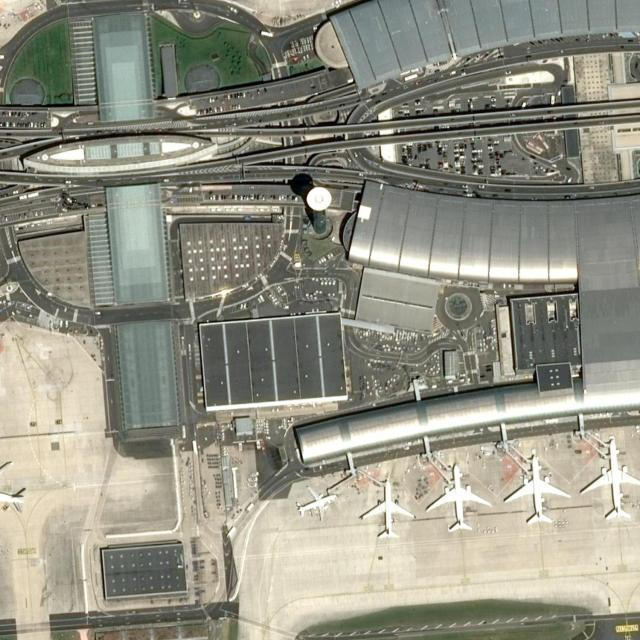Aircraft: (578, 437, 640, 521), (503, 452, 570, 526), (424, 463, 492, 533), (359, 475, 416, 540), (294, 486, 338, 520), (0, 471, 30, 517)
